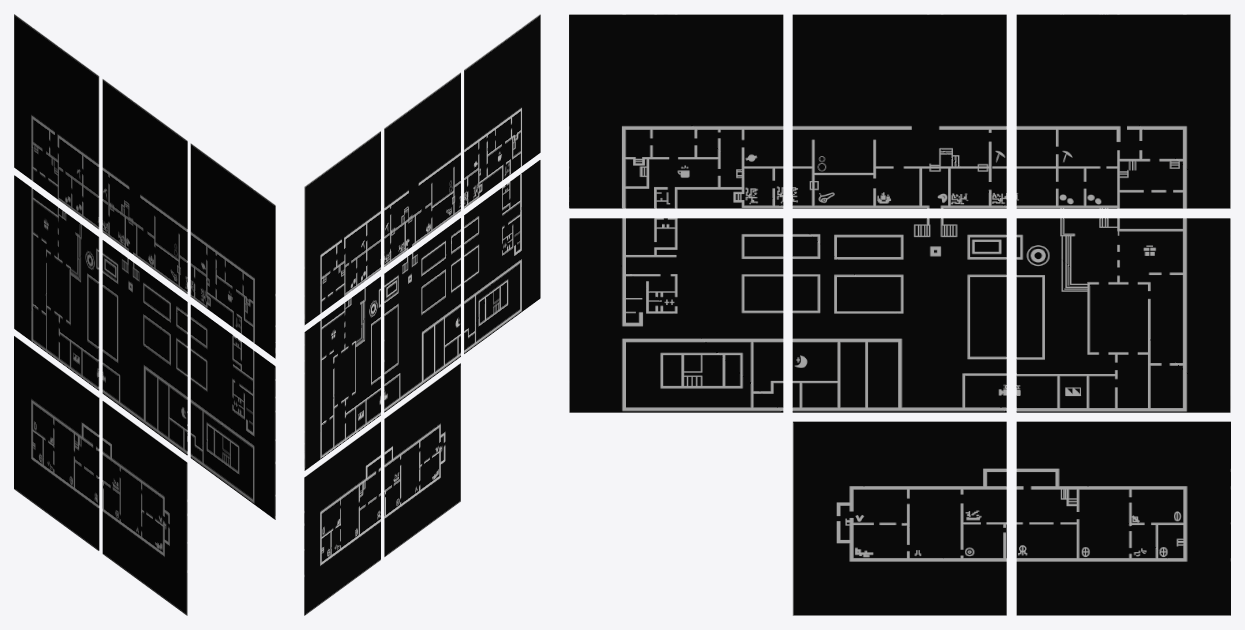
File: papan.puzzle.fbx
3 views of the same model, side by side, from view 1: azimuth 30°, elevation 25°; view 2: azimuth 150°, elevation 25°; view 3: azimuth 270°, elevation 25° (orthographic). The views are drawn at different scales.
Visible parts, largest first — view 1: map.003, map.005, map.001, map.004, map.006, map.002, map.007, map.008; view 2: map.003, map.007, map.004, map.005, map.006, map.001, map.002, map.008; view 3: map.001, map.002, map.003, map.004, map.005, map.006, map.007, map.008.
Boxes of the visible parts, bbox=[...] form: map.003: bbox=[190, 143, 275, 358]; map.005: bbox=[102, 240, 187, 455]; map.001: bbox=[14, 14, 99, 229]; map.004: bbox=[190, 304, 275, 519]; map.006: bbox=[14, 175, 99, 390]; map.002: bbox=[102, 79, 187, 293]; map.007: bbox=[14, 336, 99, 550]; map.008: bbox=[102, 401, 187, 615]; map.003: bbox=[464, 14, 540, 208]; map.007: bbox=[304, 421, 380, 615]; map.004: bbox=[464, 159, 540, 353]; map.005: bbox=[384, 218, 460, 412]; map.006: bbox=[304, 276, 380, 470]; map.001: bbox=[304, 131, 380, 325]; map.002: bbox=[384, 72, 460, 266]; map.008: bbox=[384, 363, 460, 557]; map.001: bbox=[1016, 14, 1230, 208]; map.002: bbox=[792, 14, 1006, 208]; map.003: bbox=[569, 14, 783, 208]; map.004: bbox=[569, 218, 783, 412]; map.005: bbox=[792, 218, 1006, 412]; map.006: bbox=[1016, 218, 1230, 412]; map.007: bbox=[1016, 421, 1230, 615]; map.008: bbox=[792, 421, 1006, 615].
Size of the model in its own units: 0.3249 by 308 by 307.
Materials: 8 (8 with a texture image).
